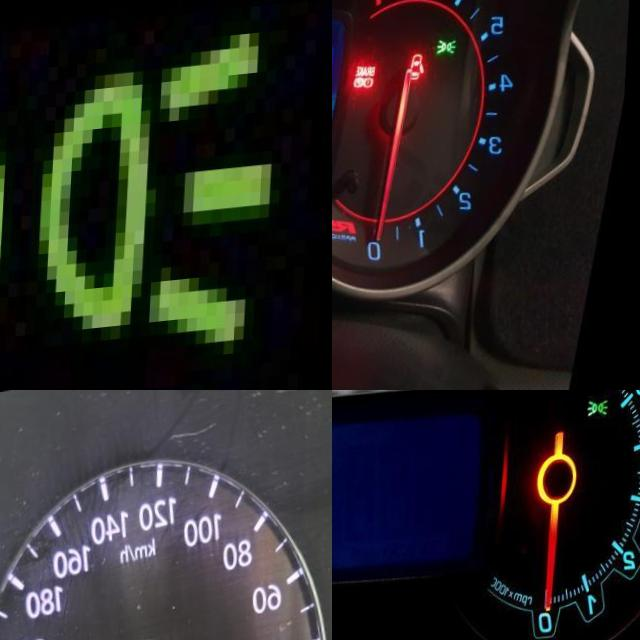Doors: (412, 60, 432, 90)
SideLamp: (0, 14, 300, 388), (439, 45, 463, 68), (591, 408, 614, 427)
